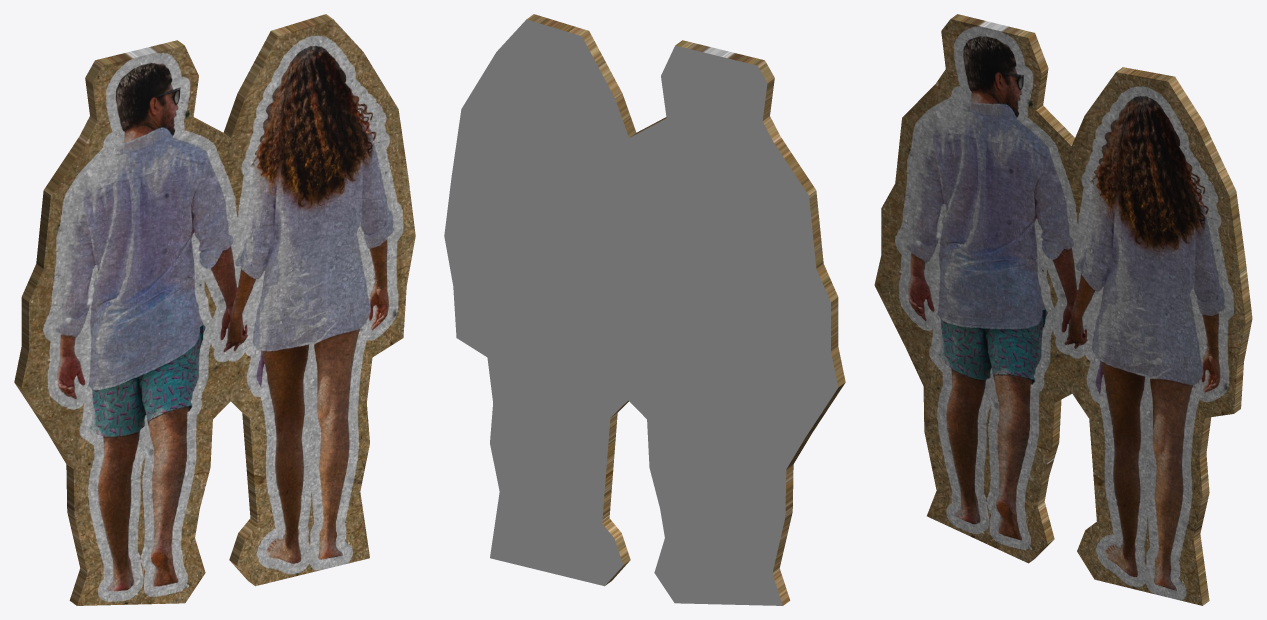
Rendered from Tourist_003.fbx.
3 views of the same model, side by side, from view 1: azimuth 30°, elevation 25°; view 2: azimuth 150°, elevation 25°; view 3: azimuth 330°, elevation 25° (orthographic). The views are drawn at different scales.
Visible parts, largest first — view 1: F3qzblt; view 2: F3qzblt; view 3: F3qzblt.
Boxes of the visible parts, x1,y1,x2,y2 form: F3qzblt: [14, 14, 415, 605]; F3qzblt: [444, 14, 845, 605]; F3qzblt: [874, 14, 1252, 605].
Bounding box in the file's own units: 73.92 × 2.38 × 100.
